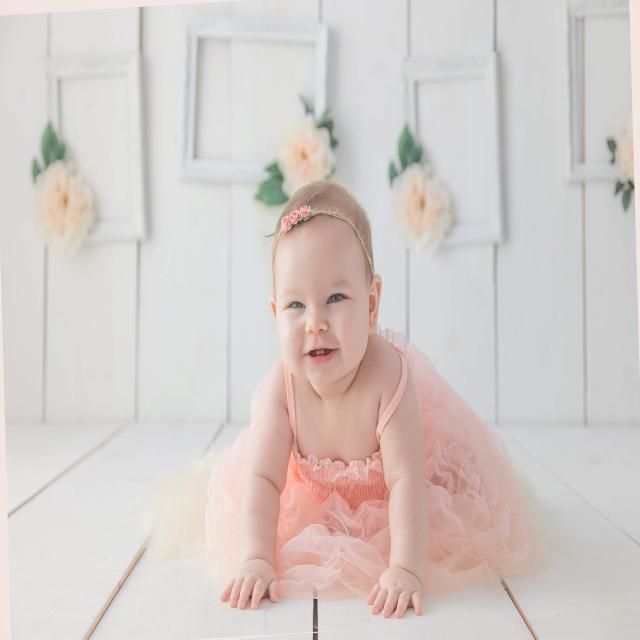non-dog: (172, 184, 547, 618)
